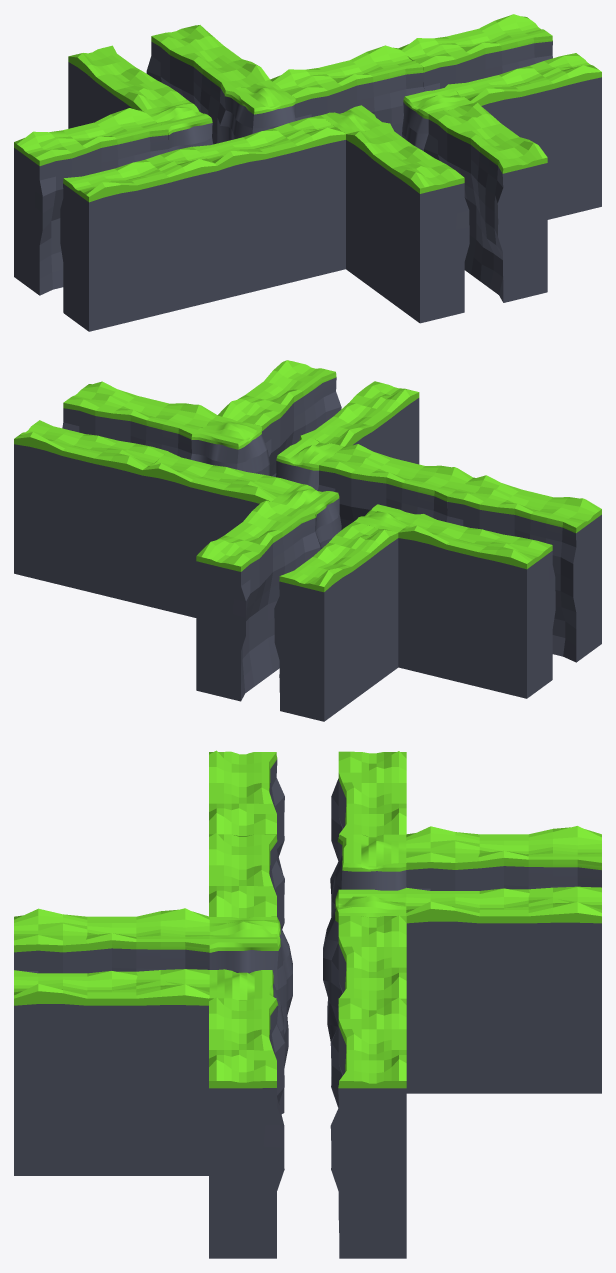
File: BlockSet1.dae
The picture shows the model from 3 angles, top to bottom: view 1: azimuth 30°, elevation 25°; view 2: azimuth 150°, elevation 25°; view 3: azimuth 270°, elevation 25°; orthographic projection. The views are drawn at different scales.
Parts seen in each view (by area): view 1: BlockSet1Fin; view 2: BlockSet1Fin; view 3: BlockSet1Fin.
Part boxes in pixels (x1,y1,x2,y2): BlockSet1Fin: [14, 14, 601, 331]; BlockSet1Fin: [14, 360, 601, 721]; BlockSet1Fin: [14, 750, 601, 1258].
Size of the model in its own units: 619 by 166 by 467.
